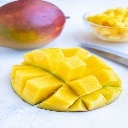mango: (9, 47, 125, 112)
